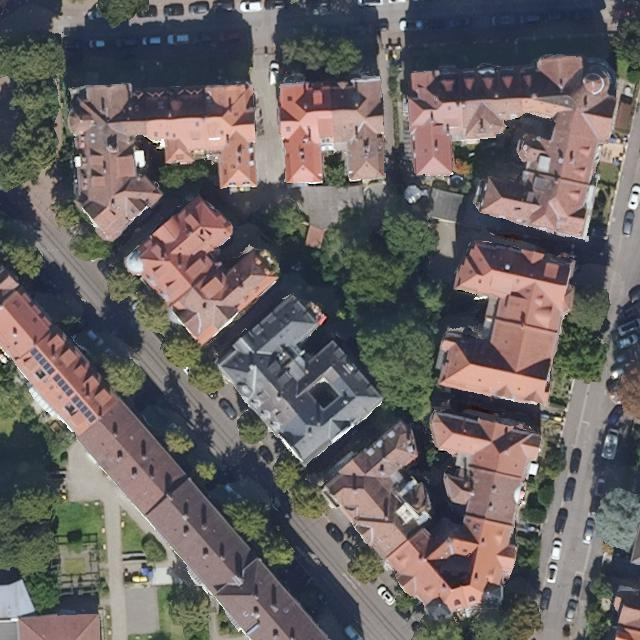PV: (68, 392, 100, 426), (27, 344, 59, 377), (50, 371, 78, 399)
